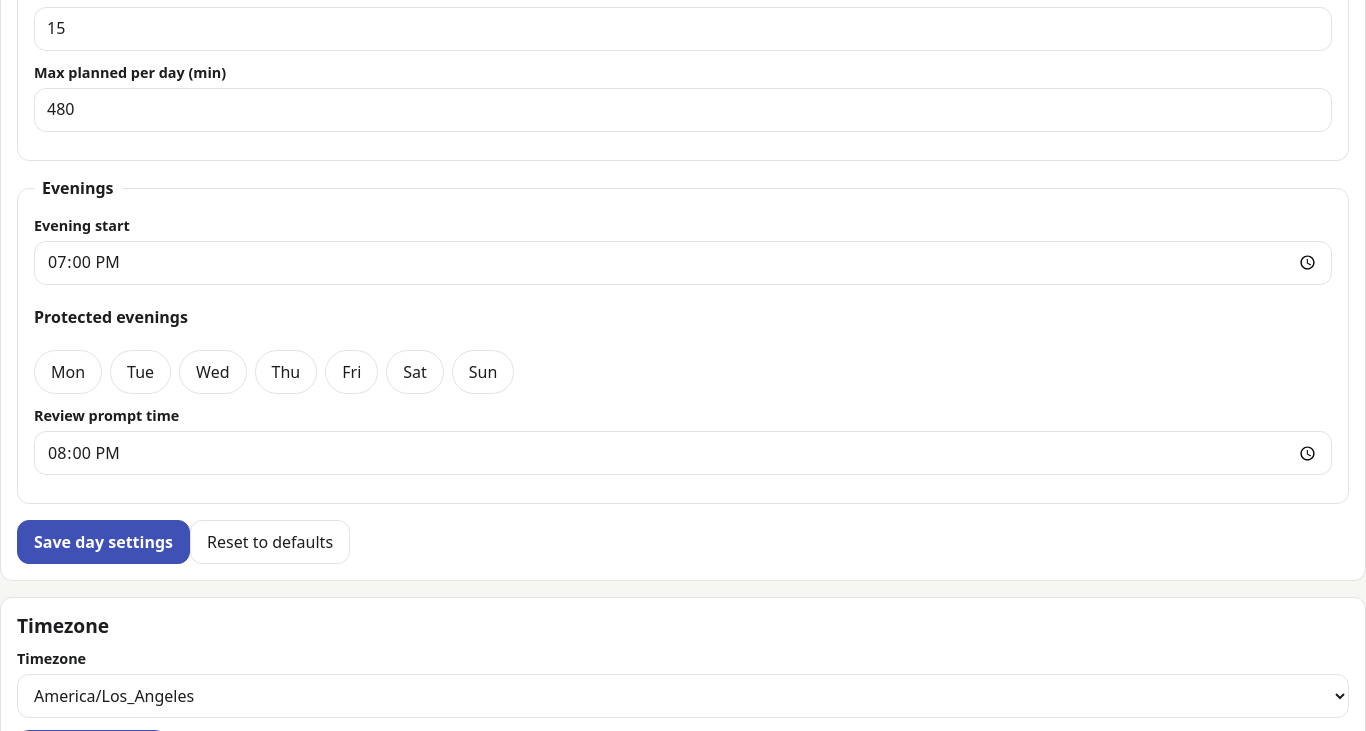
Scenario: Day and evenings settings › save PATCHes only the day keys; server field error is shown at its field
(page scrolled)
Step 1. Click the button with aria-label "Protected evenings: Friday" → (352, 372), box x1=325 y1=350 x2=378 y2=394
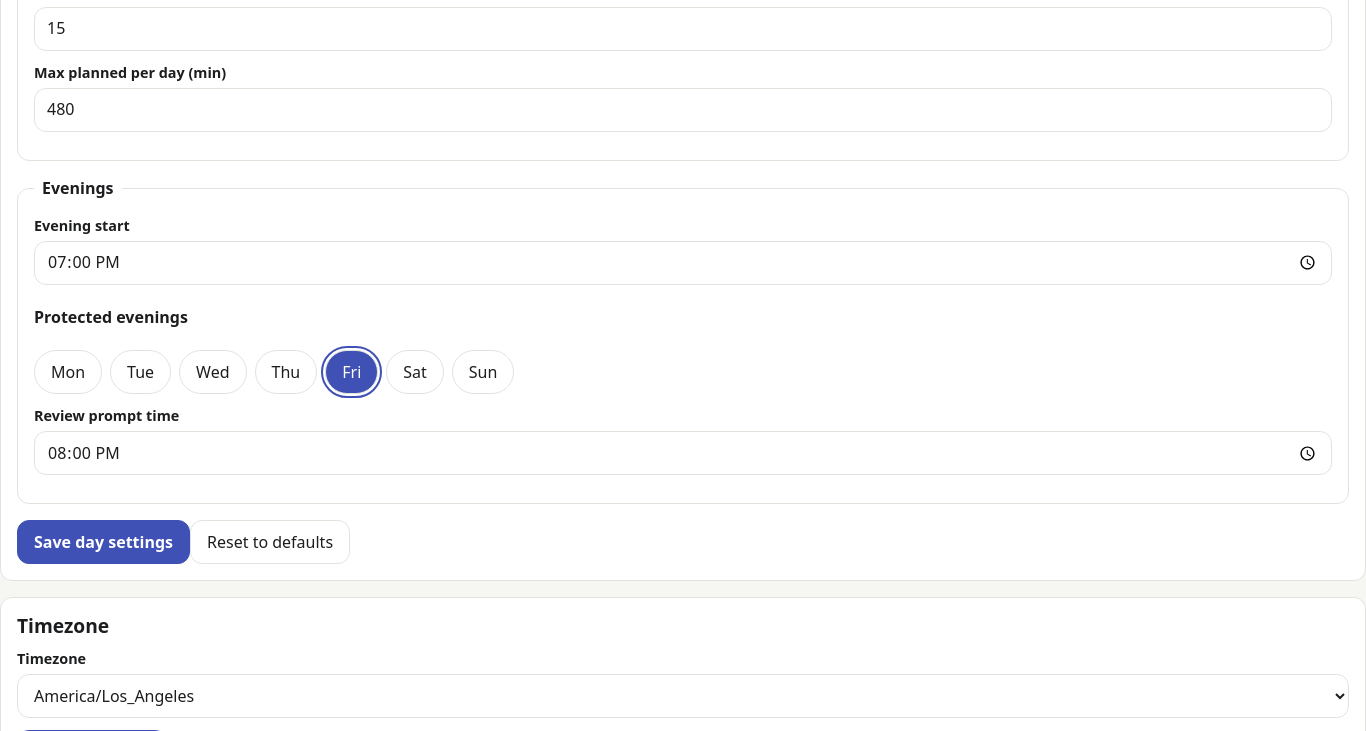
Step 2. Click the button "Save day settings" → (104, 542), box x1=17 y1=520 x2=190 y2=564
(page scrolled)
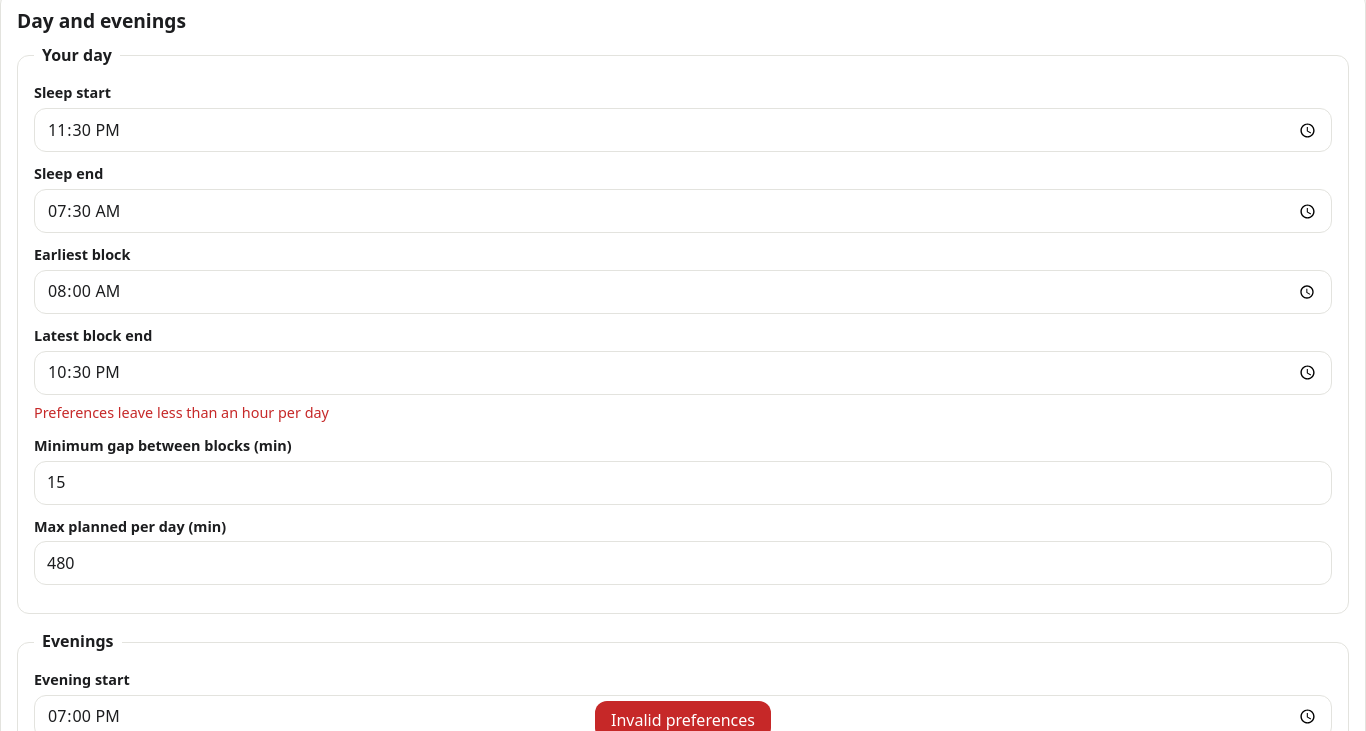
Result: the text "Preferences leave less than an hour per day" is shown at x1=34 y1=403 x2=329 y2=422
